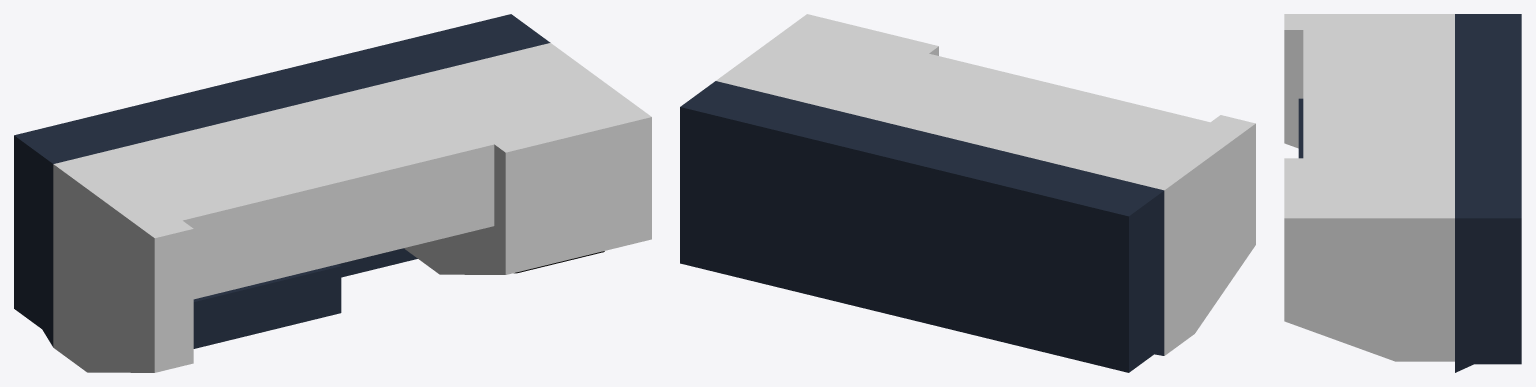
The model's file is cnc_lathe_machine_2_state_1.dae.
3 renders of one model, left to right at view 1: azimuth 30°, elevation 25°; view 2: azimuth 150°, elevation 25°; view 3: azimuth 270°, elevation 25°, orthographic. The views are drawn at different scales.
Parts seen in each view (by area): view 1: coords_ME_ID3_MA_material_8, coords_ME_ID41_MA_jean_blue; view 2: coords_ME_ID41_MA_jean_blue, coords_ME_ID3_MA_material_8; view 3: coords_ME_ID3_MA_material_8, coords_ME_ID41_MA_jean_blue.
Boxes of the visible parts, x1=… form: coords_ME_ID3_MA_material_8: x1=53, y1=43, x2=651, y2=372; coords_ME_ID41_MA_jean_blue: x1=14, y1=14, x2=550, y2=348; coords_ME_ID41_MA_jean_blue: x1=680, y1=81, x2=1164, y2=372; coords_ME_ID3_MA_material_8: x1=716, y1=14, x2=1255, y2=355; coords_ME_ID3_MA_material_8: x1=1284, y1=14, x2=1454, y2=361; coords_ME_ID41_MA_jean_blue: x1=1298, y1=14, x2=1521, y2=372.
Bounding box in the file's own units: 44.17 × 15.59 × 21.65.
